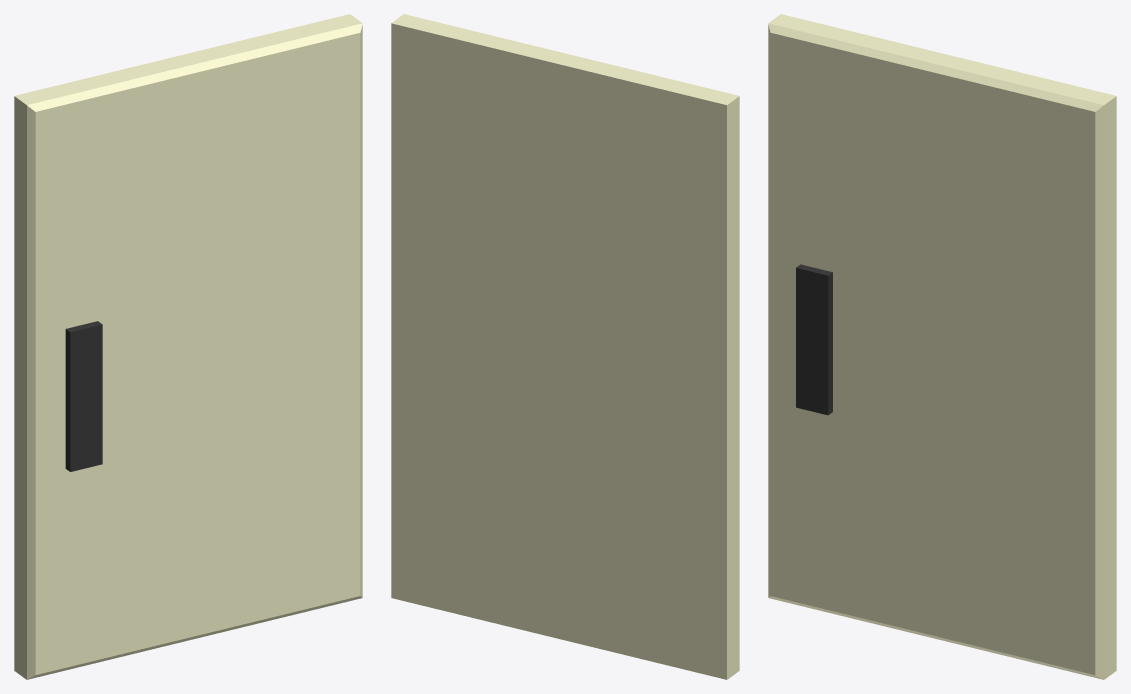
Rendered from Haidennbann_Door.fbx.
The picture shows the model from 3 angles, left to right: view 1: azimuth 30°, elevation 25°; view 2: azimuth 150°, elevation 25°; view 3: azimuth 330°, elevation 25°; orthographic projection.
Parts seen in each view (by area): view 1: pPlane1; view 2: pPlane1; view 3: pPlane1.
Part boxes in pixels (<box>): pPlane1: <box>14,14,362,679</box>; pPlane1: <box>391,14,739,679</box>; pPlane1: <box>768,14,1116,679</box>.
Bounding box in the file's own units: 160 × 262 × 16.98.
Materials: 1 (1 with a texture image).
